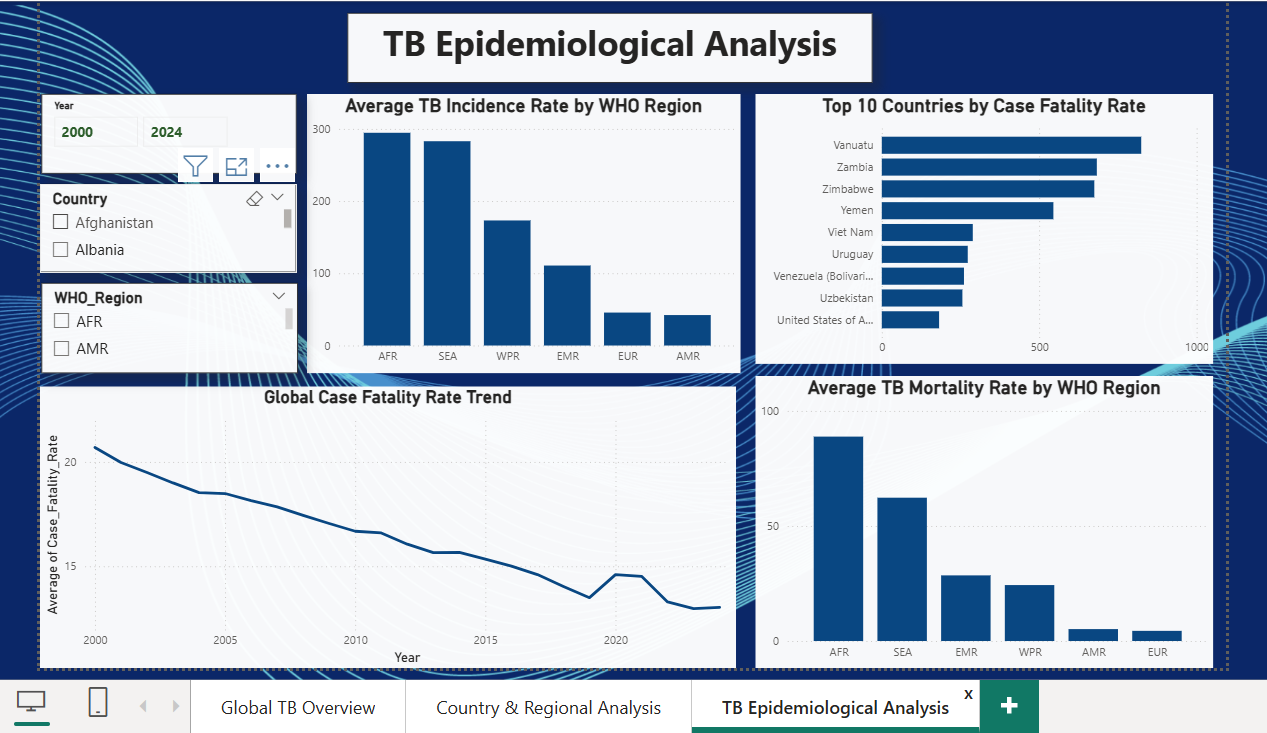

What the dashboard file says about the page in this screenshot:
{"tool":"powerbi","page":{"name":"TB Epidemiological Analysis","canvas":[1280,720],"ordinal":2},"visuals":[{"type":"textbox","box":[332.6,13.2,566.9,75.6],"z":0},{"type":"clusteredColumnChart","title":"Average TB Incidence Rate by WHO Region","fields":{"Category":["TB_Clean_Dataset.WHO_Region"],"Y":["Avg(TB_Clean_Dataset.TB_Incidence_Rate)"]},"box":[288.2,100.4,468,301.2],"z":1000},{"type":"clusteredBarChart","title":"Top 10 Countries by Case Fatality Rate","fields":{"Category":["TB_Clean_Dataset.Country"],"Y":["Sum(TB_Clean_Dataset.Case_Fatality_Rate)"]},"box":[772.4,100.4,493.9,291.5],"z":2000},{"type":"clusteredColumnChart","title":"Average TB Mortality Rate by WHO Region","fields":{"Category":["TB_Clean_Dataset.WHO_Region"],"Y":["Avg(TB_Clean_Dataset.TB_Mortality_Rate)"]},"box":[772.4,404.8,493.9,315.7],"z":3000},{"type":"lineChart","title":"Global Case Fatality Rate Trend","fields":{"Category":["TB_Clean_Dataset.Year"],"Y":["Avg(TB_Clean_Dataset.Case_Fatality_Rate)"]},"box":[0,416.1,751.3,304.4],"z":3001},{"type":"slicer","fields":{"Values":["TB_Clean_Dataset.Year"]},"box":[1.6,100.4,275.3,85.8],"z":3002},{"type":"slicer","fields":{"Values":["TB_Clean_Dataset.Country"]},"box":[0,197.5,276.9,95.5],"z":3003},{"type":"slicer","fields":{"Values":["TB_Clean_Dataset.WHO_Region"]},"box":[1.6,304.4,276.9,97.2],"z":3004}]}

Visuals, with their boxes in screenshot pixels (x1, y1, x2, y2):
textbox: detection(340, 6, 873, 77)
"Average TB Incidence Rate by WHO Region" clusteredColumnChart: detection(298, 88, 738, 372)
"Top 10 Countries by Case Fatality Rate" clusteredBarChart: detection(754, 88, 1219, 362)
"Average TB Mortality Rate by WHO Region" clusteredColumnChart: detection(754, 375, 1219, 672)
"Global Case Fatality Rate Trend" lineChart: detection(26, 385, 734, 672)
slicer - TB_Clean_Dataset.Year: detection(28, 88, 287, 169)
slicer - TB_Clean_Dataset.Country: detection(26, 179, 287, 269)
slicer - TB_Clean_Dataset.WHO_Region: detection(28, 280, 289, 372)
